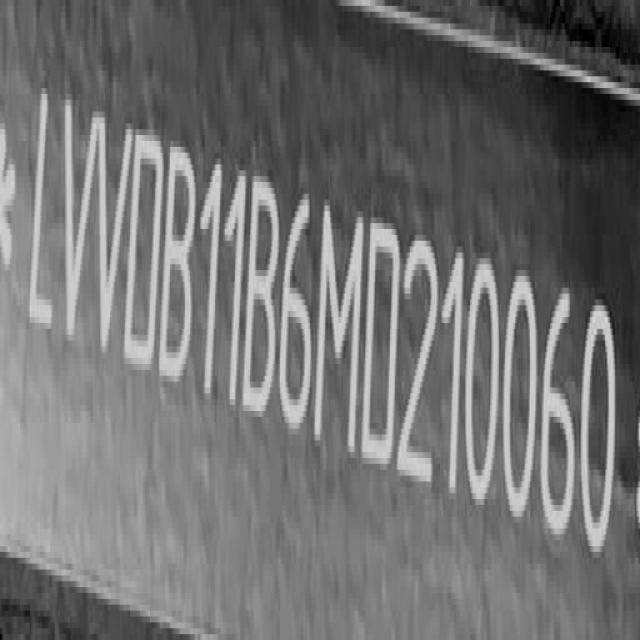0: (582, 299, 620, 563), (464, 252, 499, 518), (505, 269, 540, 531)
1: (439, 241, 464, 504), (199, 151, 223, 416), (221, 165, 245, 417)
2: (402, 229, 442, 498)
6: (540, 280, 576, 546), (281, 181, 316, 444)
B: (246, 169, 282, 430), (162, 140, 198, 398)
D: (364, 206, 403, 478), (126, 128, 164, 386)
L: (26, 86, 60, 337)
M: (318, 192, 364, 466)
V: (57, 96, 96, 358), (92, 109, 130, 371)
